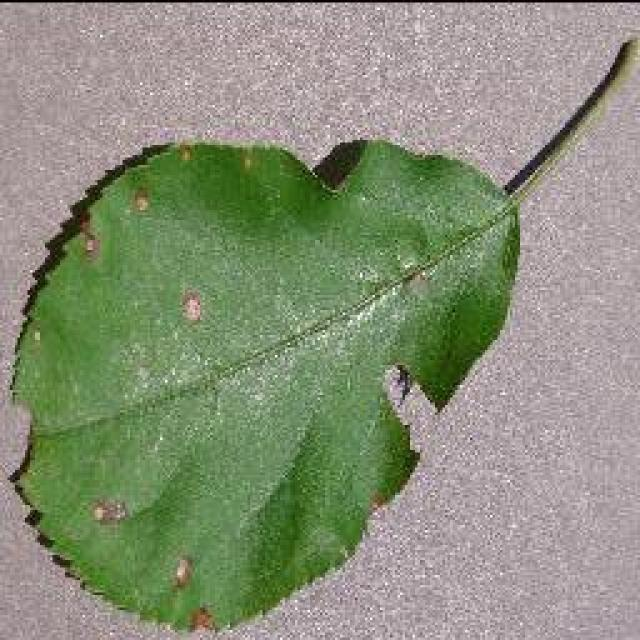Black_rot: (2, 35, 638, 635)
